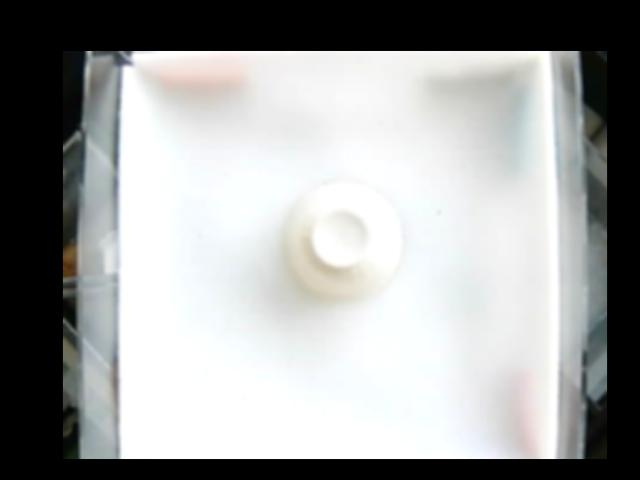Cup: (285, 181, 402, 297)
